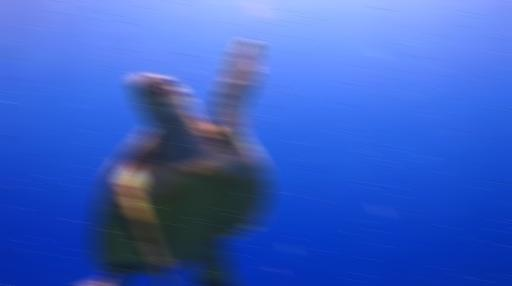Fish: (92, 41, 269, 285)
